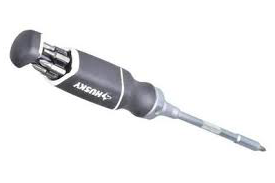Screwdriver: (6, 22, 271, 159)
